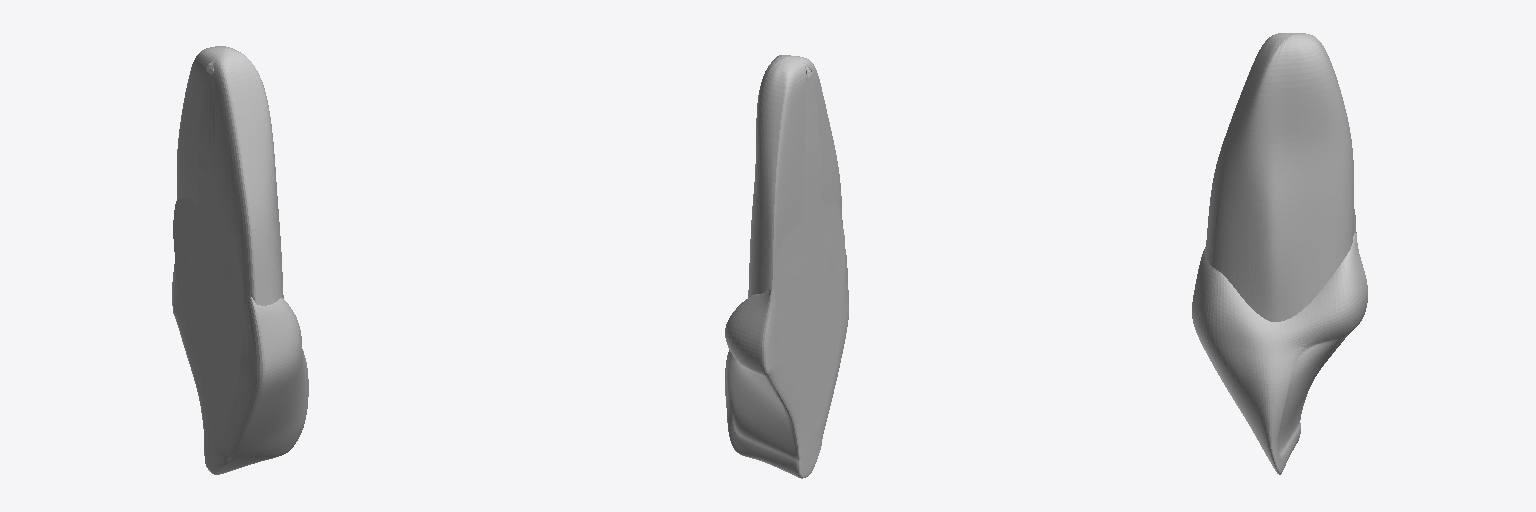
The model's file is Longitudinal.obj.
The picture shows the model from 3 angles: view 1: azimuth 30°, elevation 25°; view 2: azimuth 150°, elevation 25°; view 3: azimuth 270°, elevation 25°; orthographic projection.
Visible parts, largest first — view 1: Cylinder, Cylinder.001_Cylinder.002, Plane, Plane.001; view 2: Cylinder.001_Cylinder.002, Cylinder, Plane, Plane.001; view 3: Cylinder, Cylinder.001_Cylinder.002.
Part boxes in pixels (bbox=[...]): Cylinder: bbox=[177, 46, 283, 305]; Cylinder.001_Cylinder.002: bbox=[172, 264, 308, 474]; Plane: bbox=[173, 198, 243, 437]; Plane.001: bbox=[193, 60, 222, 418]; Cylinder.001_Cylinder.002: bbox=[725, 249, 848, 478]; Cylinder: bbox=[748, 55, 842, 297]; Plane: bbox=[775, 202, 844, 433]; Plane.001: bbox=[799, 63, 828, 412]; Cylinder: bbox=[1206, 33, 1353, 321]; Cylinder.001_Cylinder.002: bbox=[1192, 232, 1367, 474].
Size of the model in its own units: 0.8893 by 3.79 by 1.45.